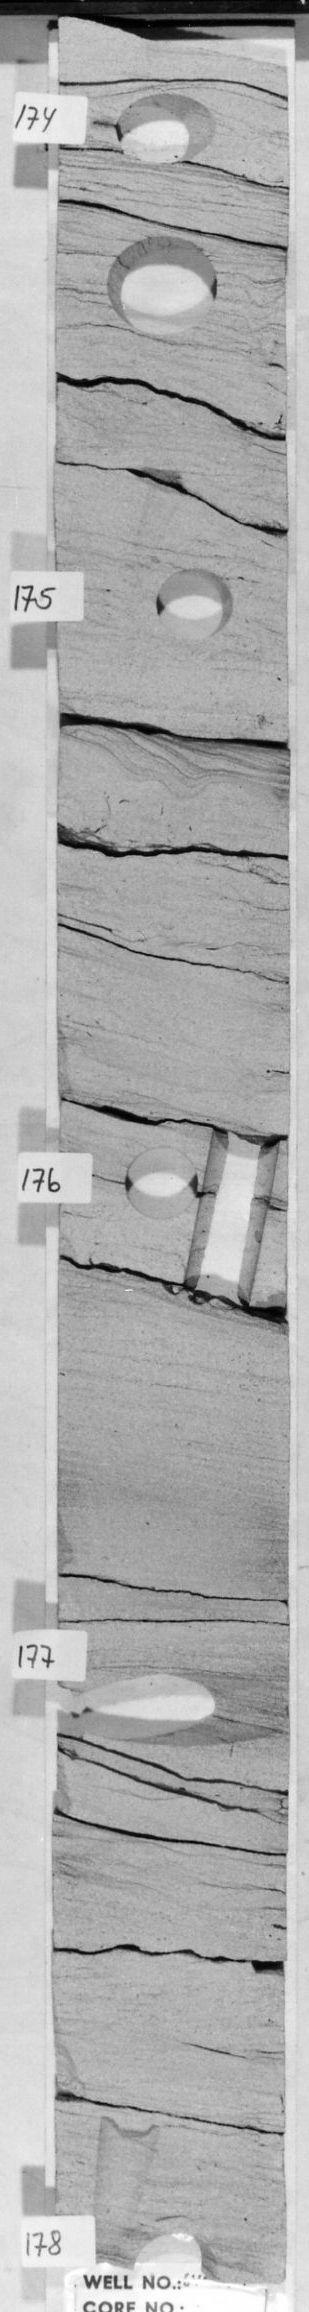hplug: (60, 1676, 230, 1755), (110, 91, 219, 167), (149, 560, 238, 650), (121, 1143, 199, 1225), (132, 2234, 222, 2280)
scal: (102, 230, 228, 335)
vplug: (182, 1124, 283, 1312), (84, 2107, 152, 2257)
